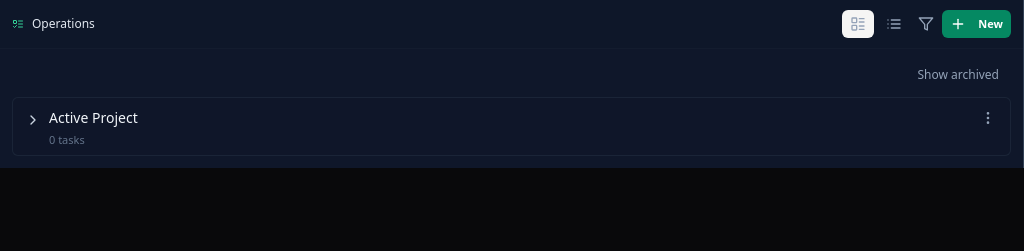
Test: TaskPanel engagement grouped behavior › shows archived synthetic groups only when archived toggle is enabled
expect the button "Active Project" is shown: met, box [49,108,138,128]
expect the text "Archived Project" is not shown: met
Click the button "Show archived". click: (958, 75)
box: [906,61,1011,89]
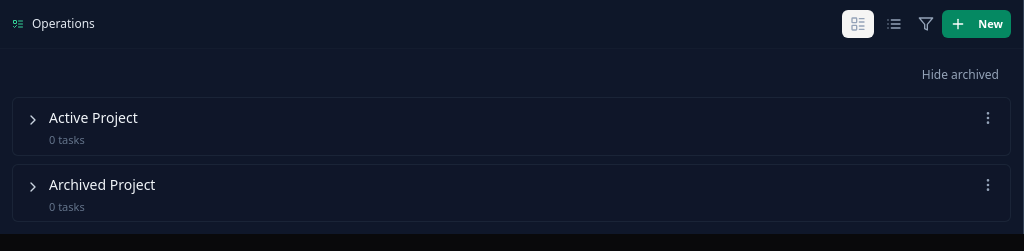
expect the button "Archived Project" is shown: met, box [49,174,155,194]
